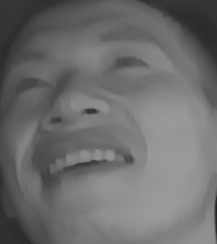eye: (104, 47, 149, 77), (6, 74, 51, 99)
mouth: (37, 142, 133, 199)
